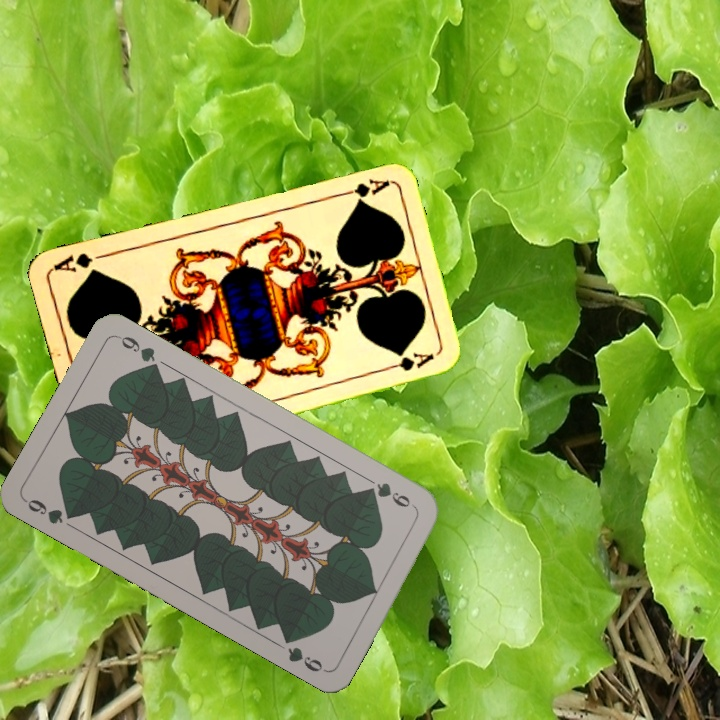G9: (362, 475, 419, 512), (21, 495, 80, 527)
GA: (332, 174, 391, 200)
